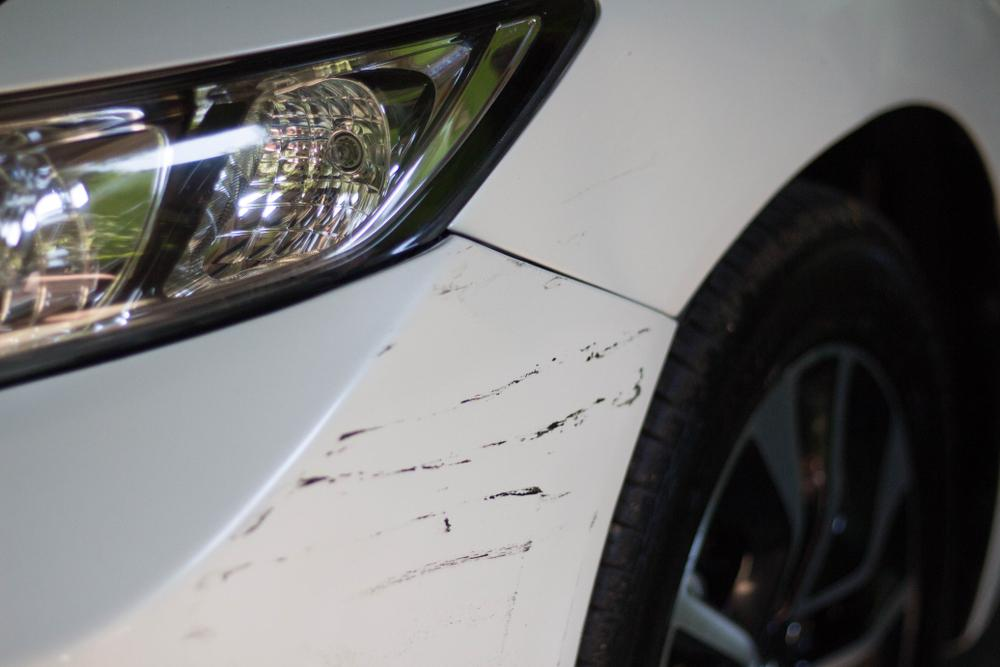scratch: (161, 247, 680, 608)
